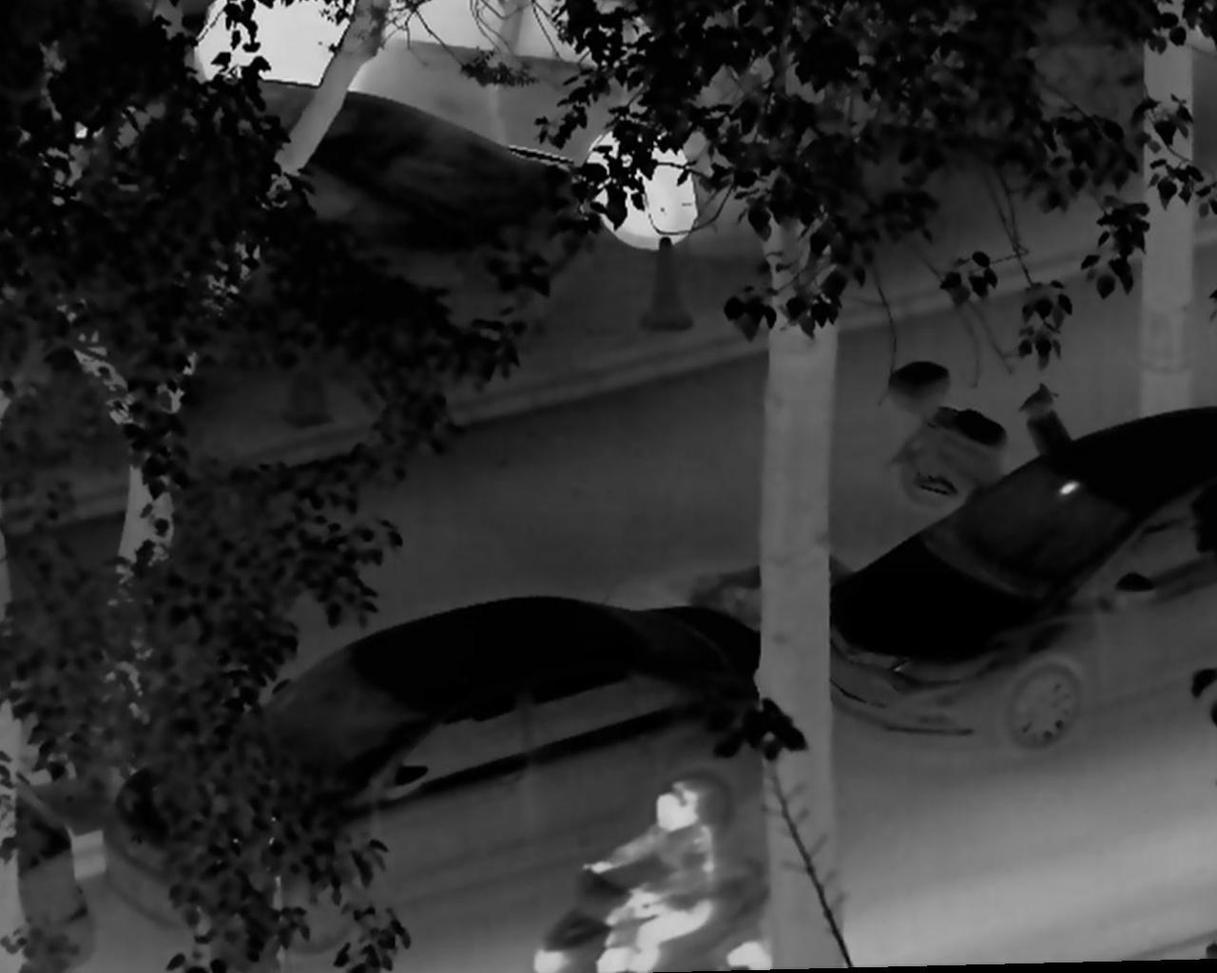person: (576, 777, 720, 973)
